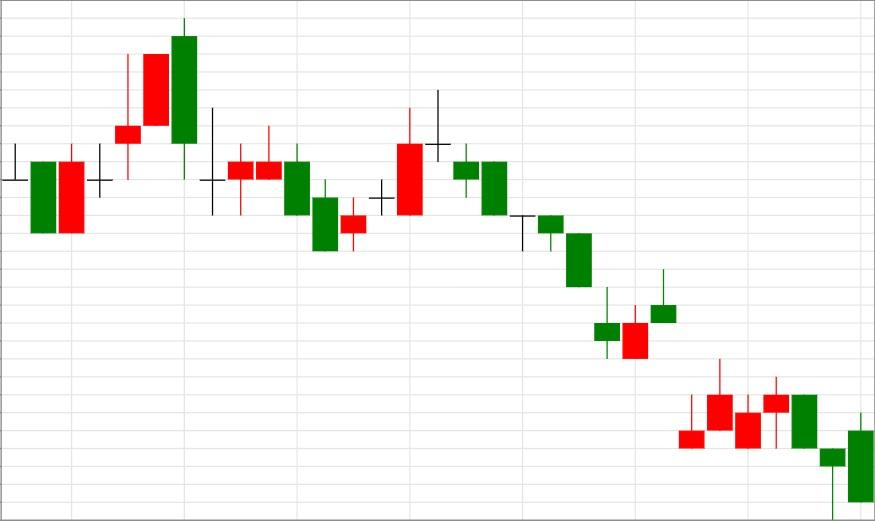bearish_engulfing_fall: (30, 19, 198, 234)
